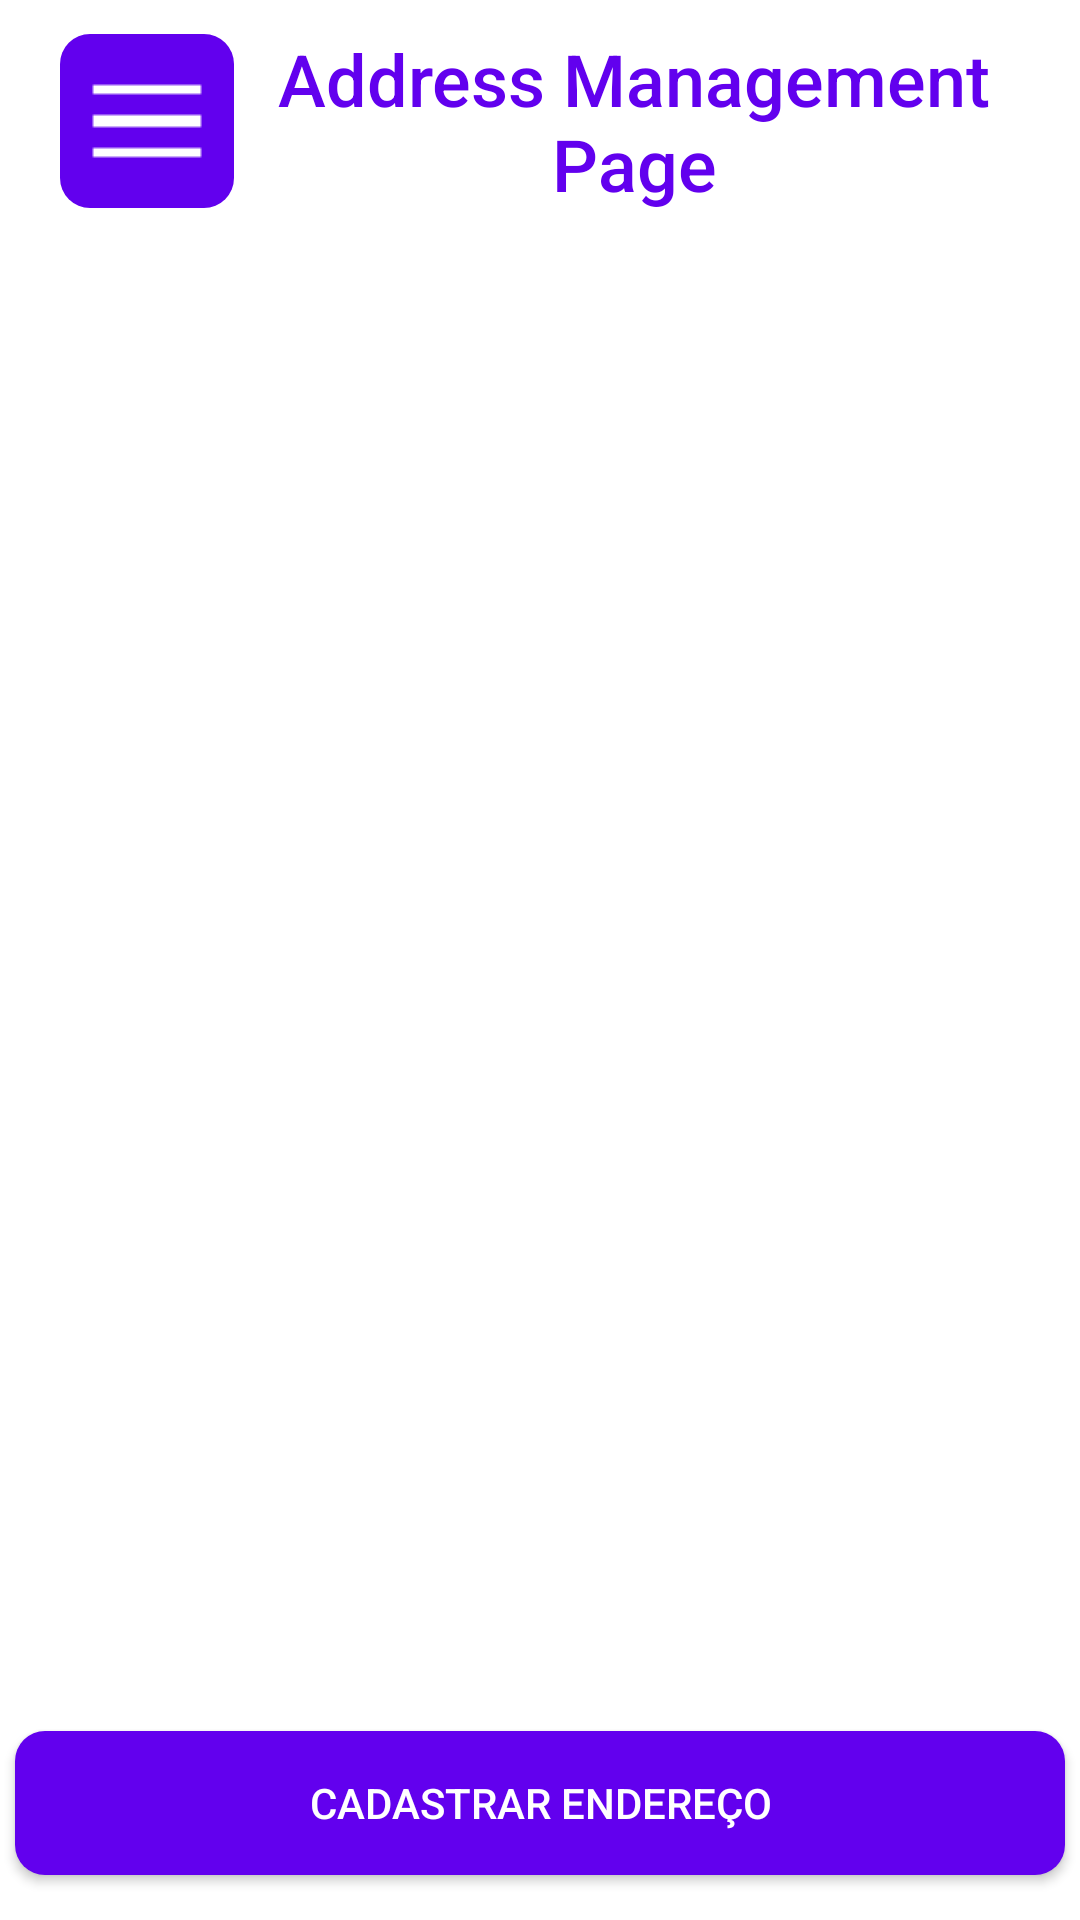

Screen size 1080w x 1920h. Icon name, then its center in pixels as [x,y]:
menu: [147,121]
